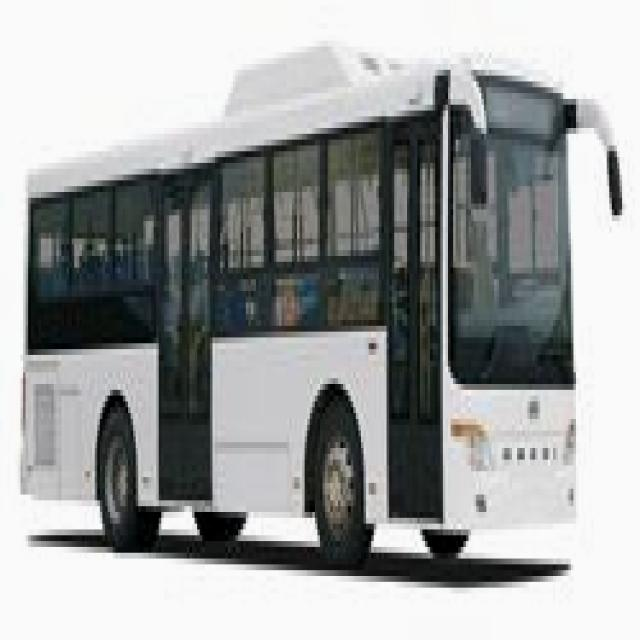bus: (20, 42, 626, 583)
